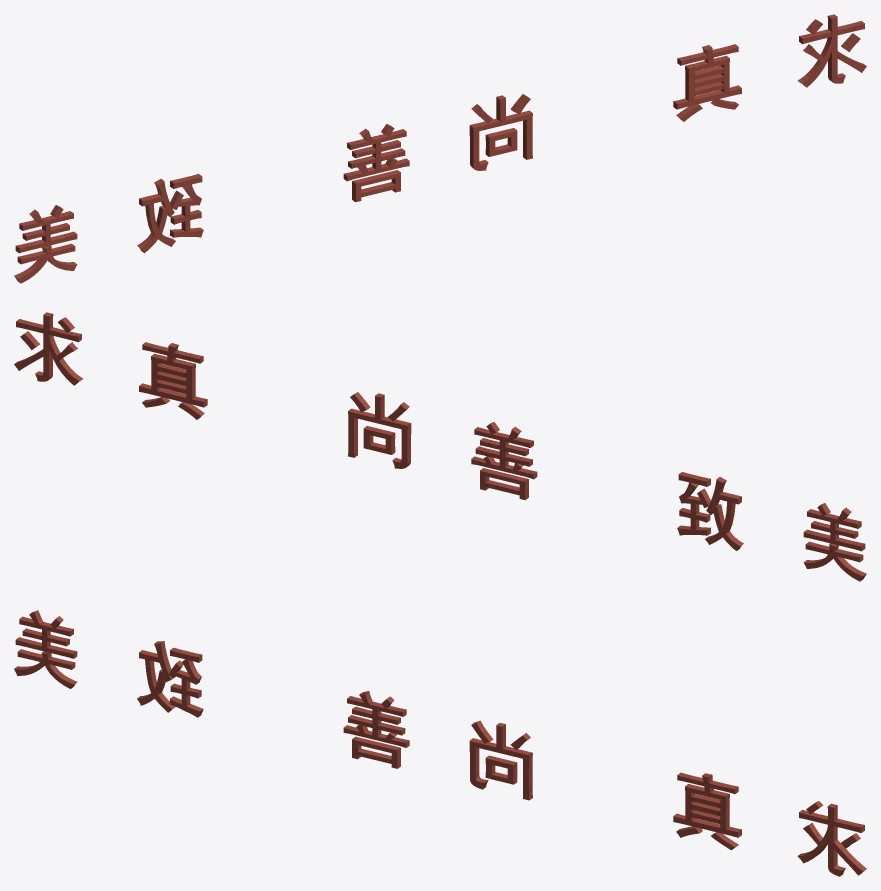
Rendered from SM_QD_School_Motto_Raised3D.fbx.
The picture shows the model from 3 angles, top to bottom: view 1: azimuth 30°, elevation 25°; view 2: azimuth 150°, elevation 25°; view 3: azimuth 330°, elevation 25°; orthographic projection.
Parts seen in each view (by area): view 1: SM_QD_School_Motto_Raised3D; view 2: SM_QD_School_Motto_Raised3D; view 3: SM_QD_School_Motto_Raised3D.
Part boxes in pixels (left/top/right/bottom): SM_QD_School_Motto_Raised3D: left=14, top=14, right=866, bottom=283; SM_QD_School_Motto_Raised3D: left=14, top=312, right=866, bottom=581; SM_QD_School_Motto_Raised3D: left=14, top=610, right=866, bottom=876.
Size of the model in its own units: 6.96 by 0.054 by 0.53.
